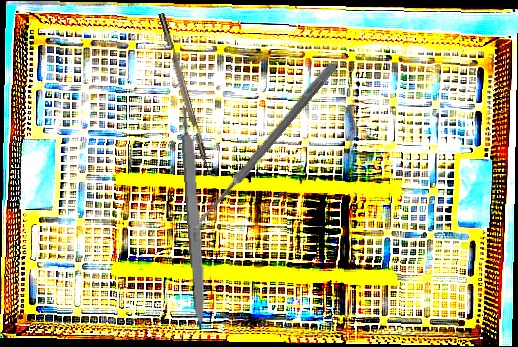Chopper: (158, 10, 220, 181)
Scalpel Handle: (179, 102, 210, 333)
Surgical Spoon: (187, 61, 338, 236)
